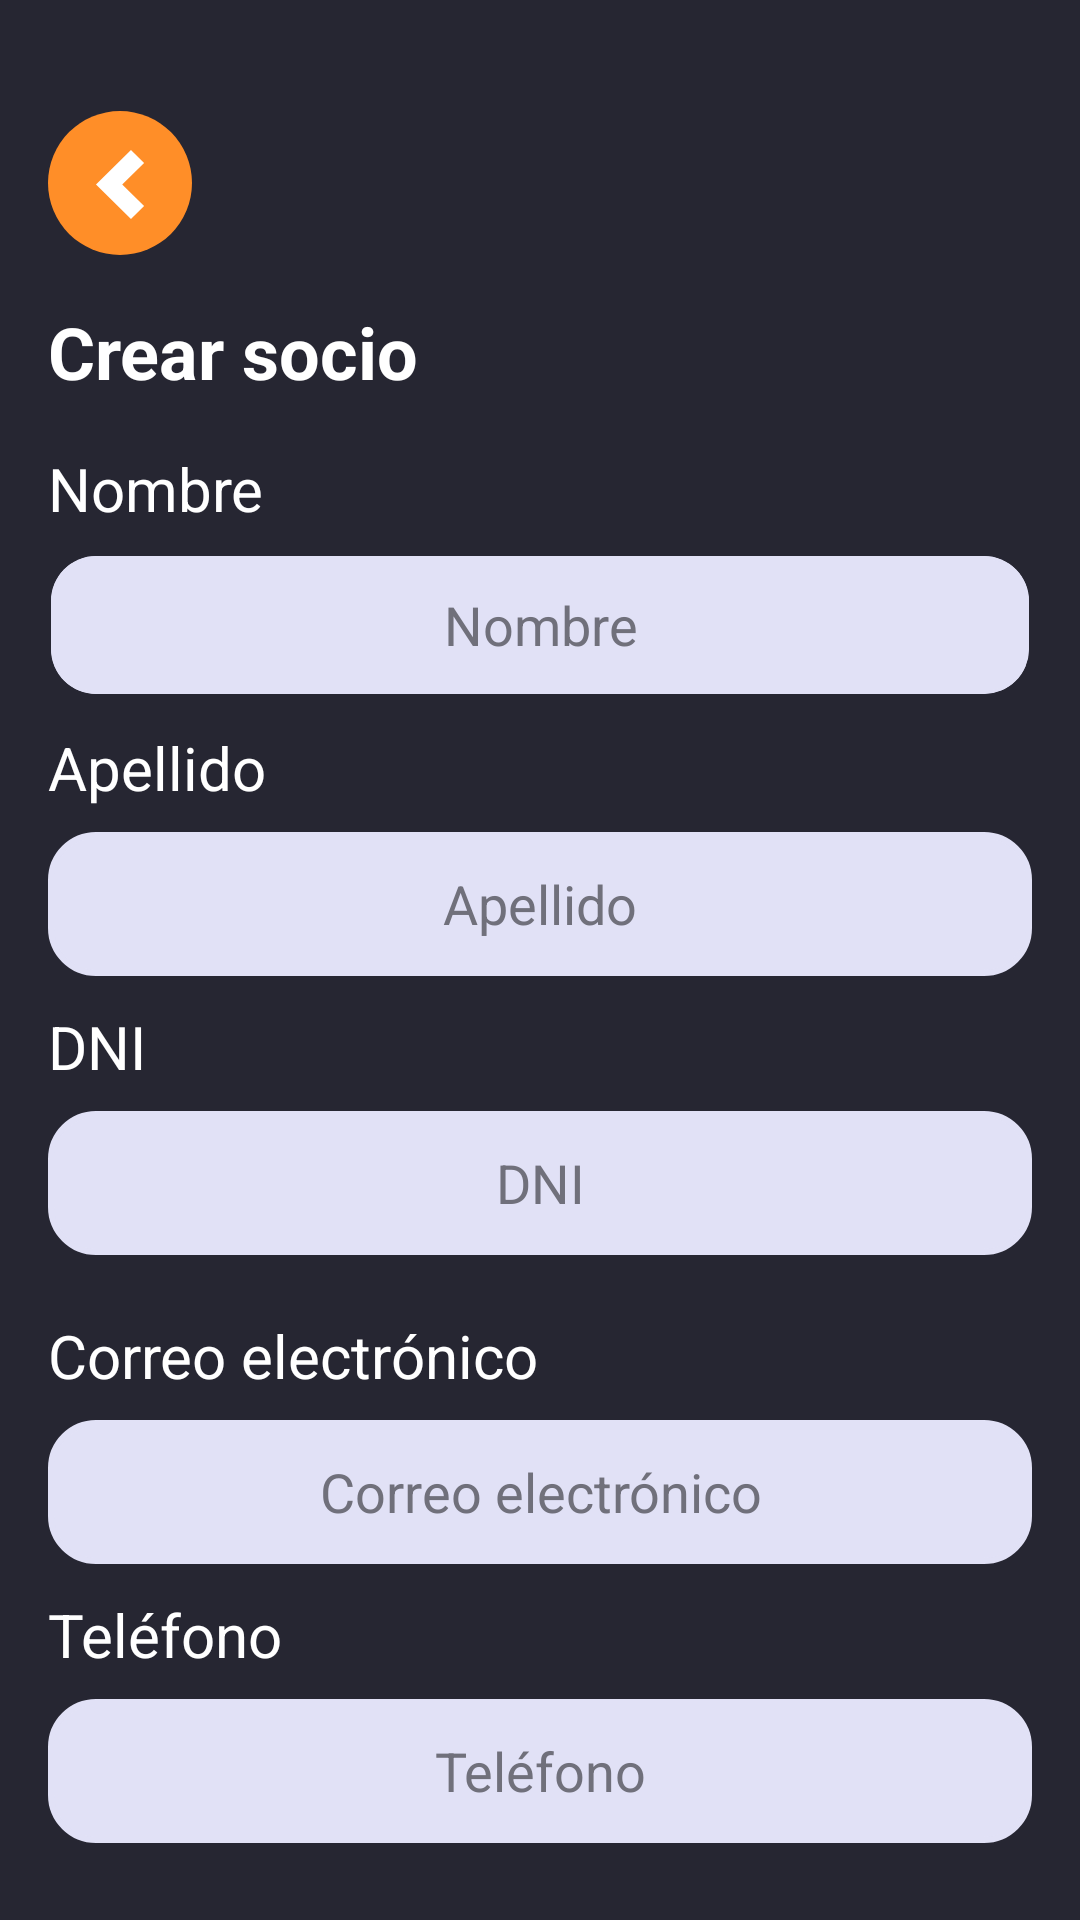

Locate icon controls on the screen. Image size 1080w x 1920h, boxes as (x1, y1, x2, y2).
Volver: (48, 111, 192, 255)
